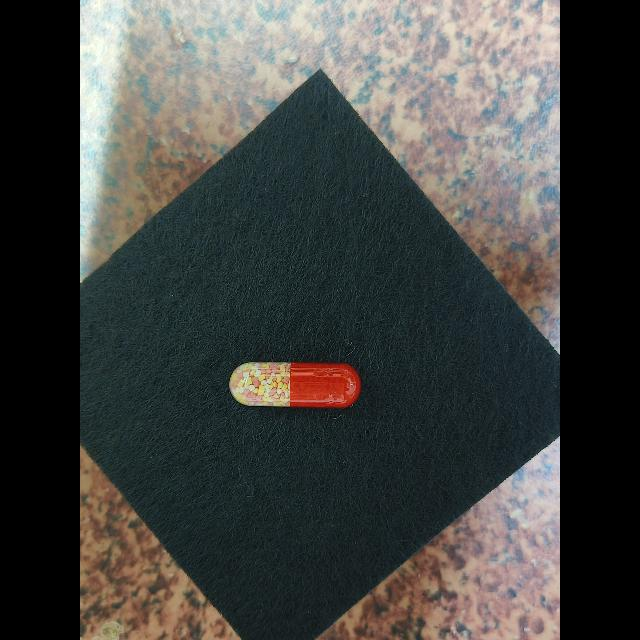Intact Capsule: (229, 362, 361, 408)
